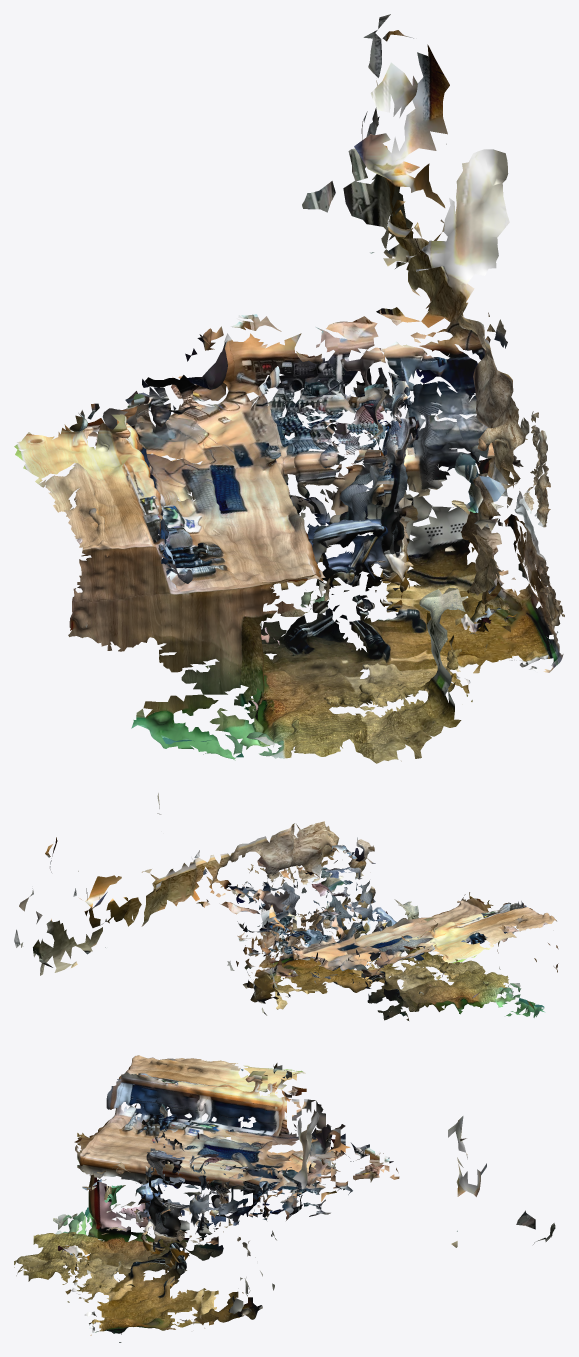
The model's file is 140747-Desk-tex.glb.
The picture shows the model from 3 angles, top to bottom: view 1: azimuth 30°, elevation 25°; view 2: azimuth 150°, elevation 25°; view 3: azimuth 270°, elevation 25°; orthographic projection. The views are drawn at different scales.
Parts seen in each view (by area): view 1: Node; view 2: Node; view 3: Node.
Boxes of the visible parts, x1,y1,x2,y2 form: Node: (14,14,564,763); Node: (14,793,558,1020); Node: (14,1055,555,1342).
Bounding box in the file's own units: 2.91 × 1.77 × 3.27.
9 materials, 9 textured.
